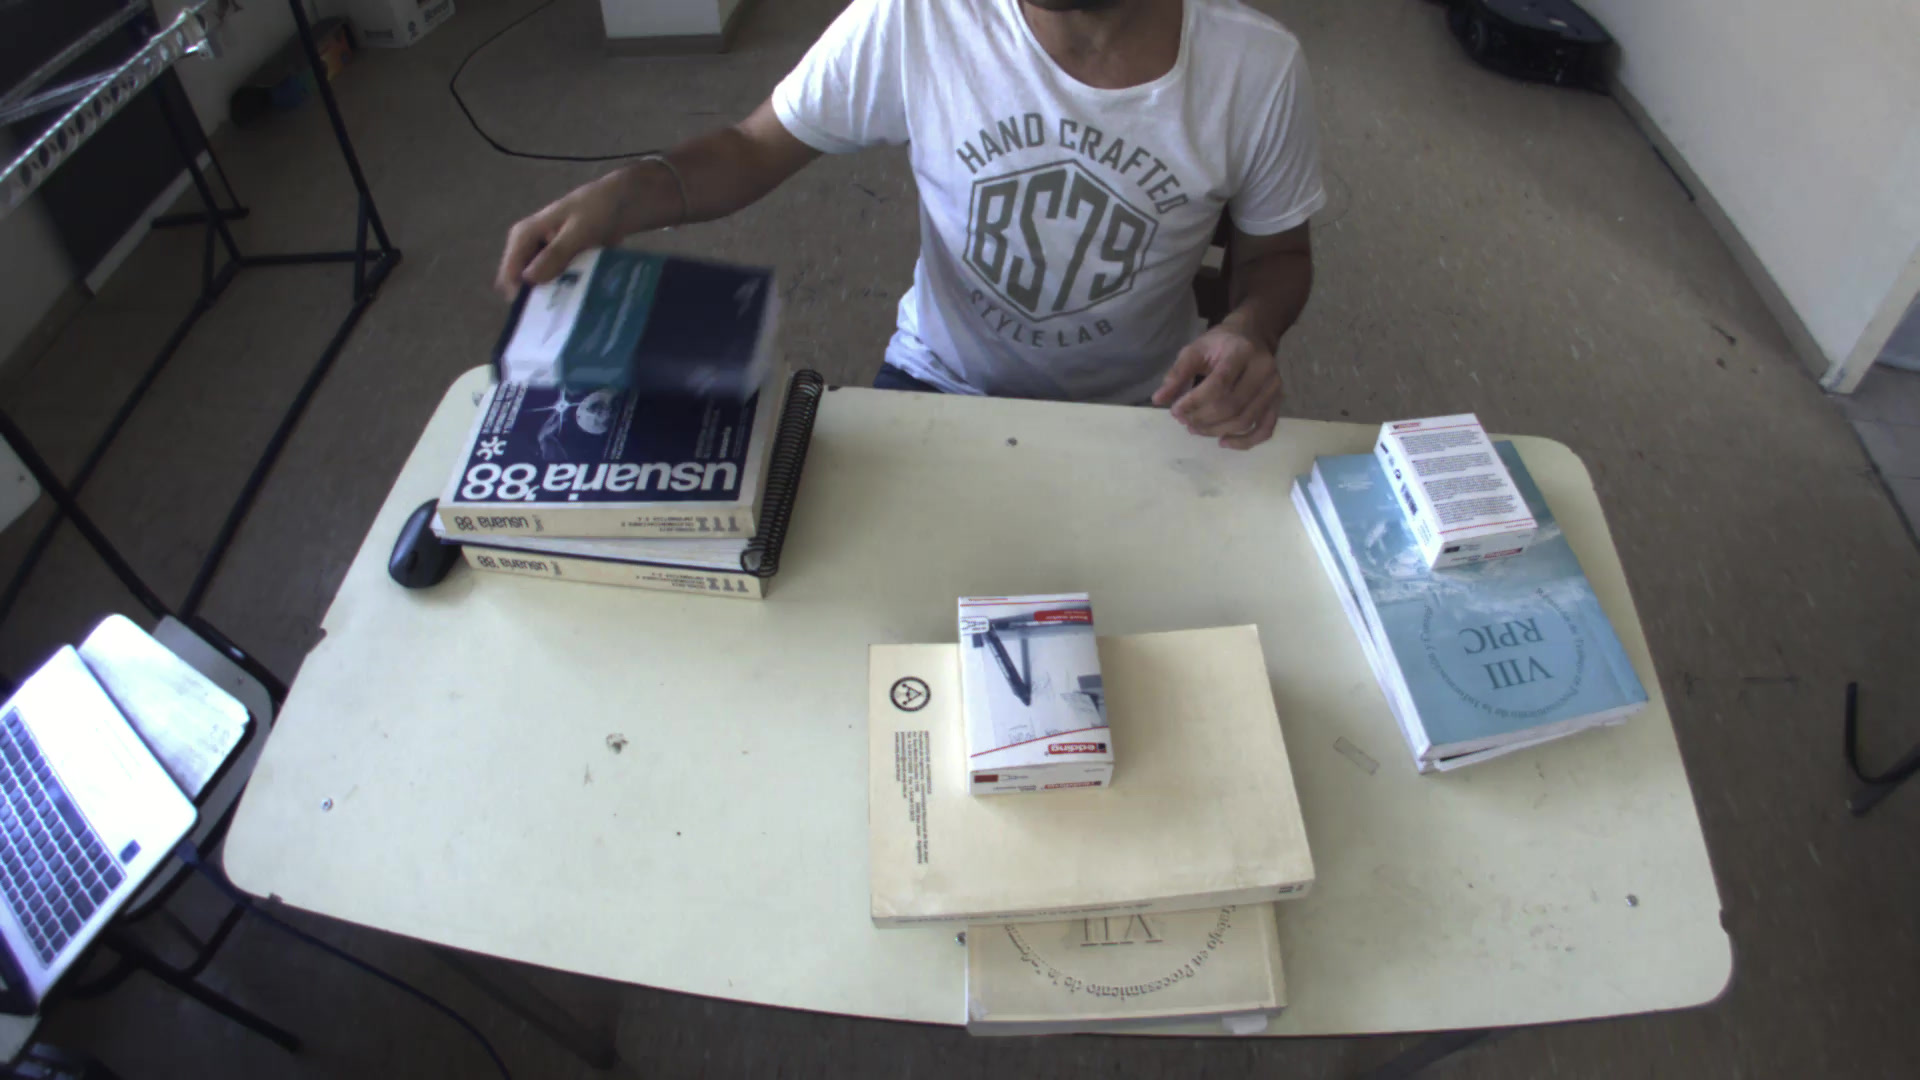hand: (479, 145, 659, 295), (1143, 311, 1299, 448)
